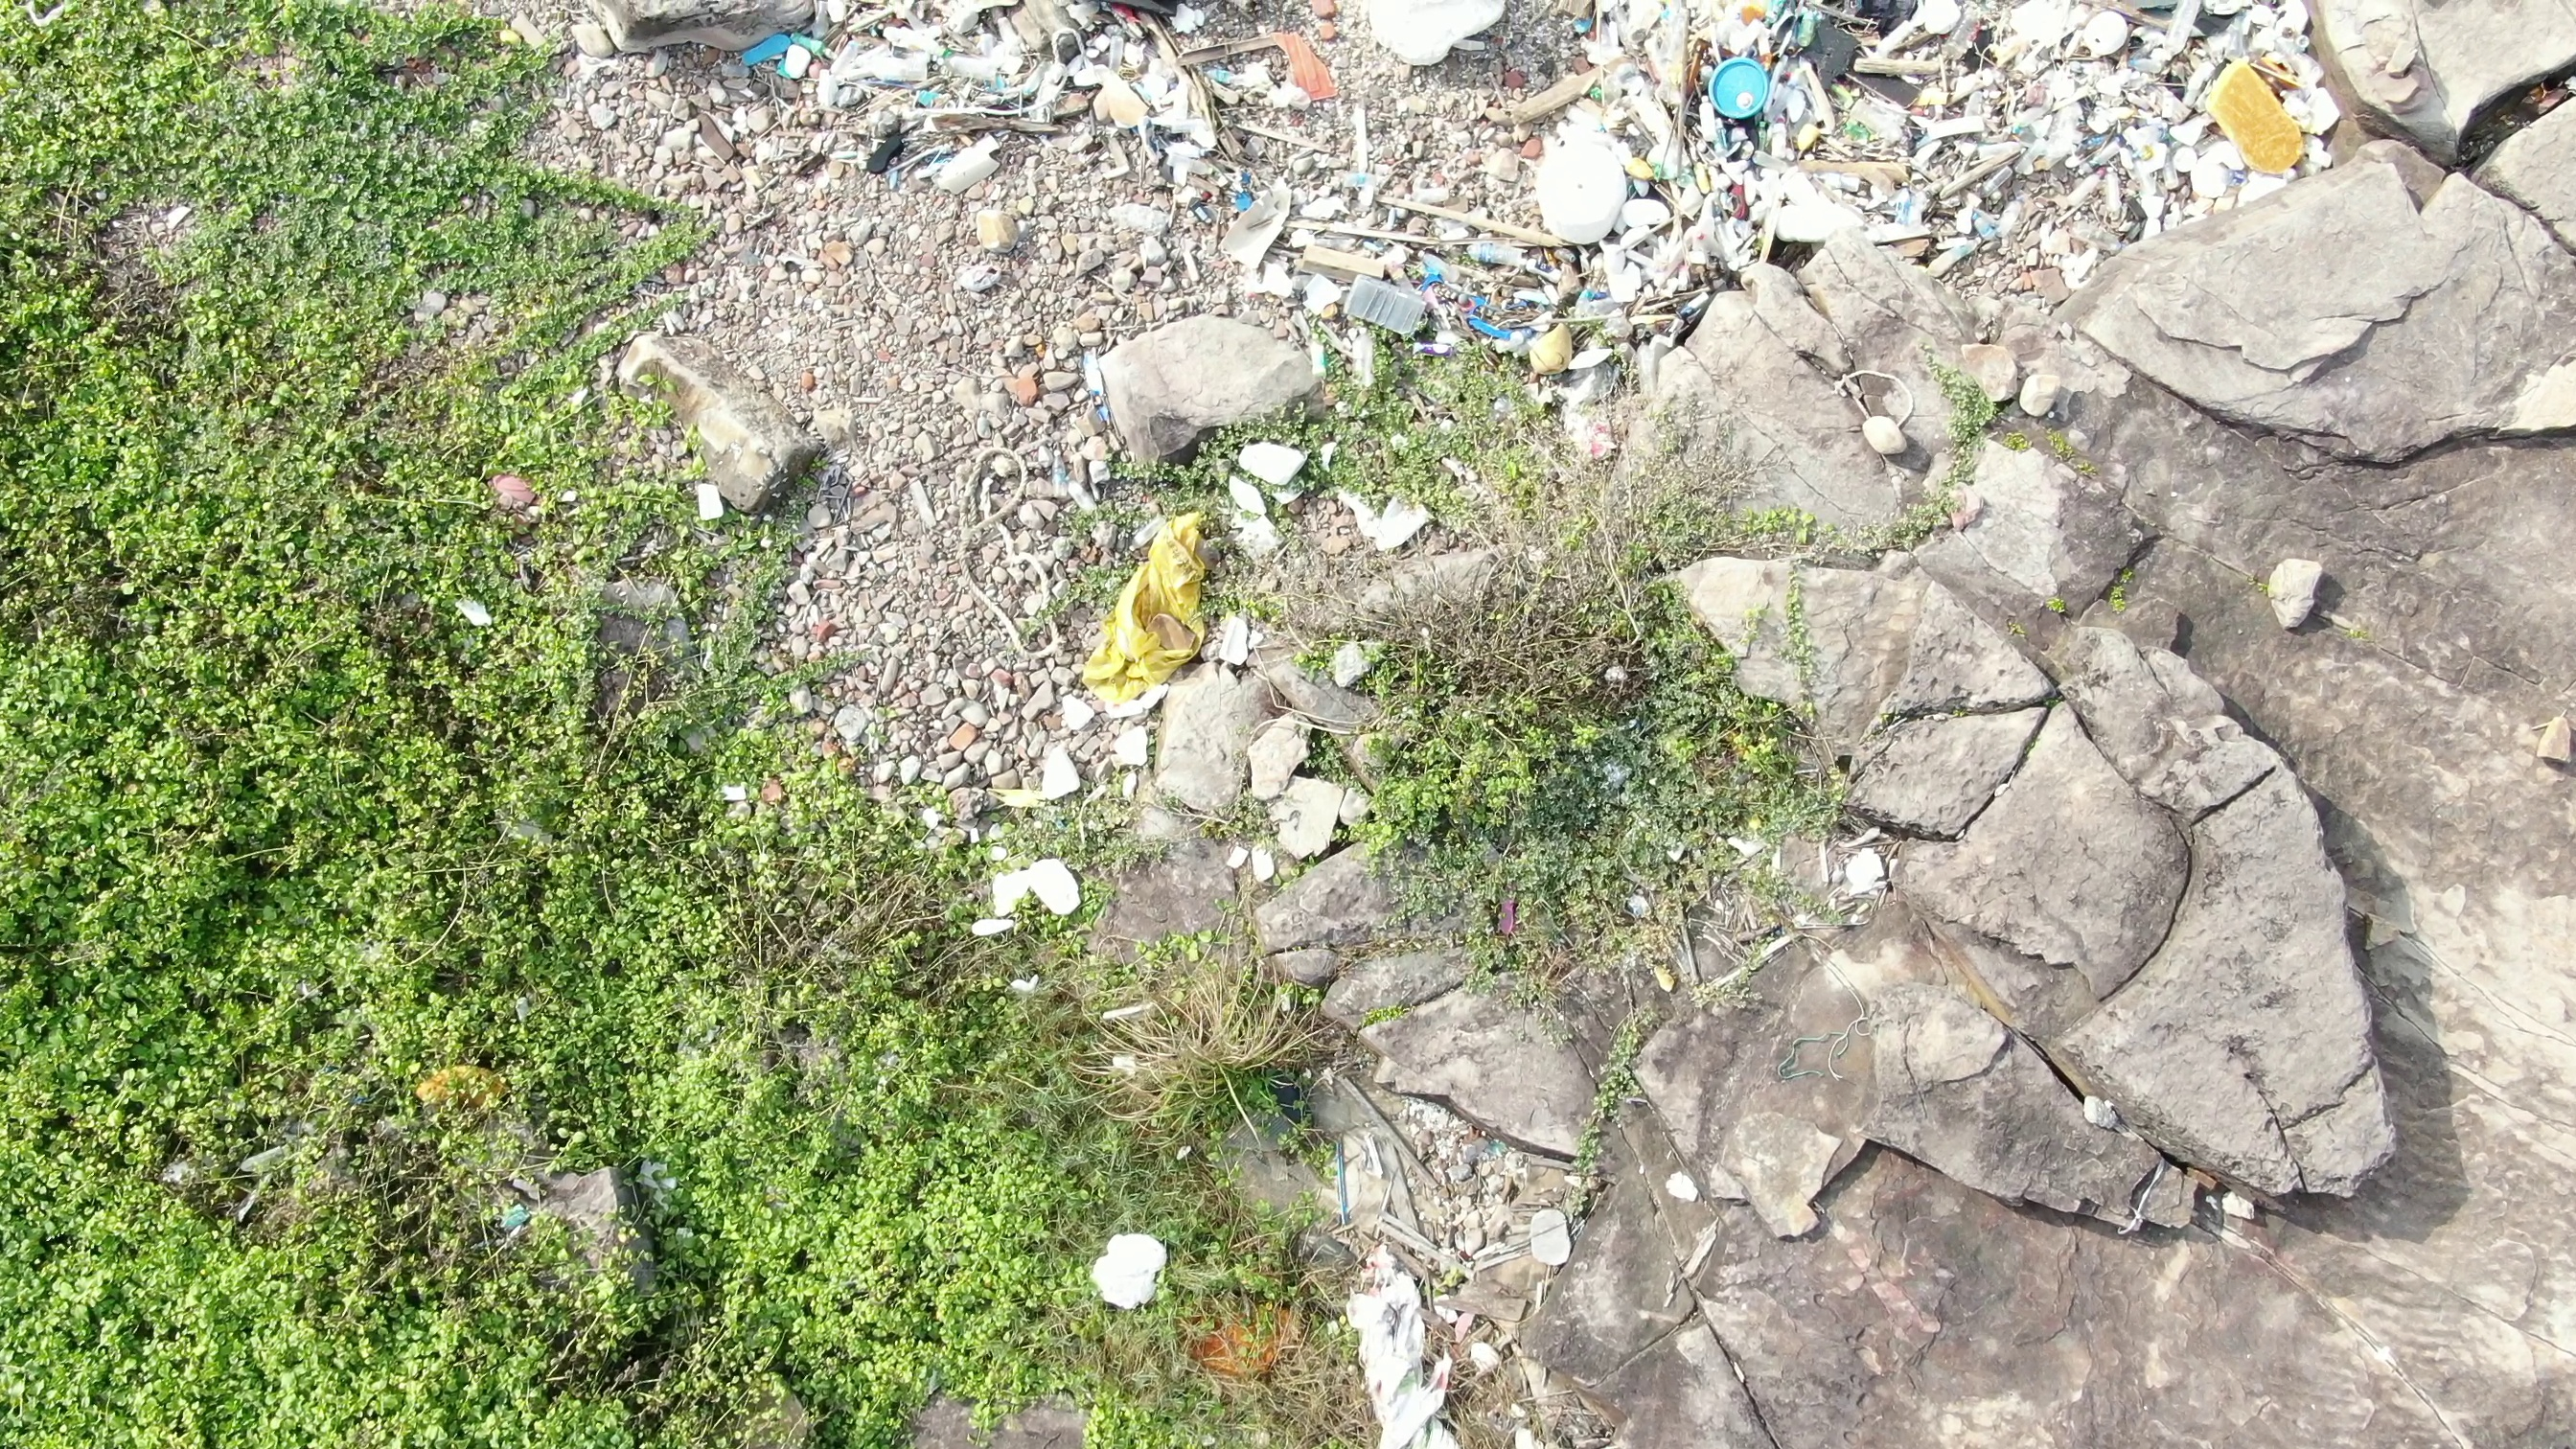garbage: (685, 2, 1240, 189), (1532, 9, 1913, 258), (1907, 2, 2210, 234), (1076, 492, 1247, 695), (1332, 223, 1539, 333), (1309, 7, 1506, 103), (2201, 44, 2325, 184), (1072, 1214, 1200, 1315)
